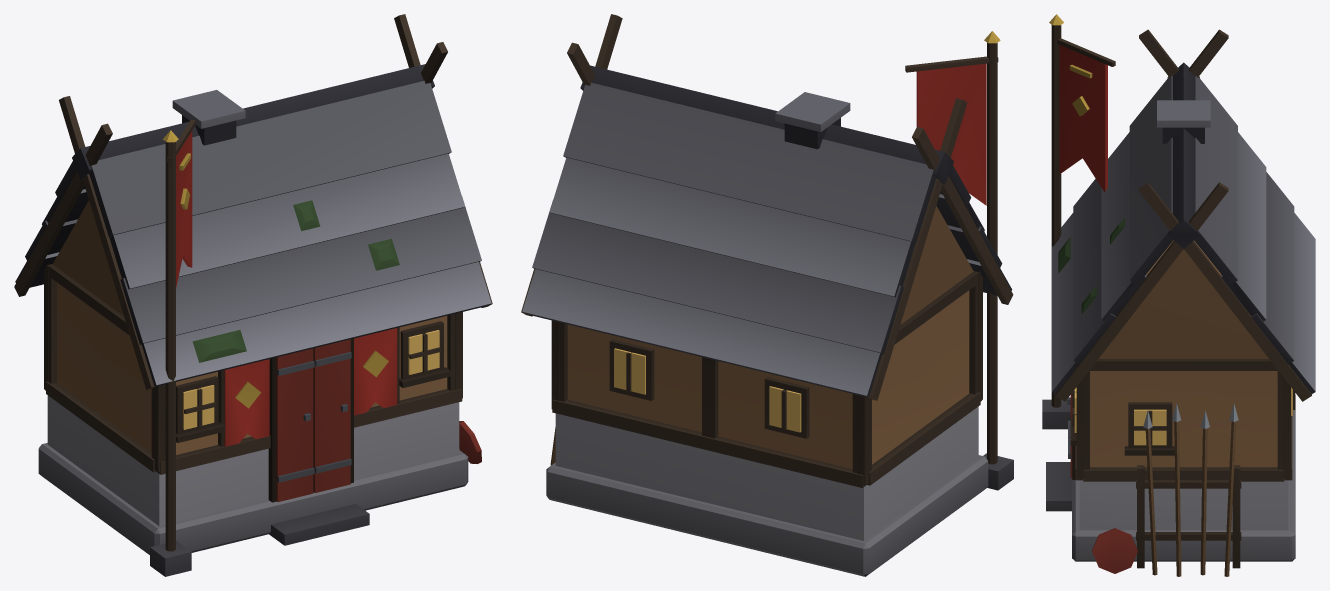
File: barracks.glb
The picture shows the model from 3 angles, left to right: view 1: azimuth 30°, elevation 25°; view 2: azimuth 150°, elevation 25°; view 3: azimuth 270°, elevation 25°; orthographic projection. The views are drawn at different scales.
Visible parts, largest first — view 1: barracks; view 2: barracks; view 3: barracks.
Part boxes in pixels (x1=…): barracks: x1=14, y1=14, x2=492, y2=576; barracks: x1=521, y1=14, x2=1013, y2=576; barracks: x1=1042, y1=14, x2=1315, y2=576.
Bounding box in the file's own units: 4.06 × 4.72 × 2.86.
